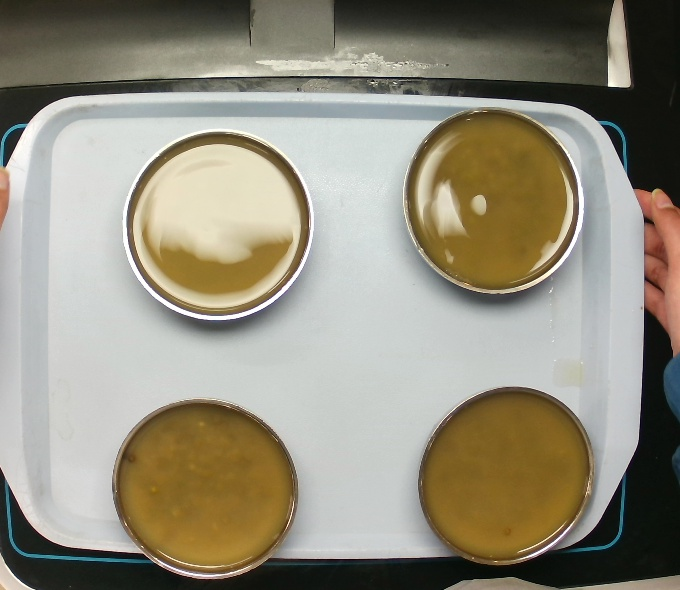wcq-LvDouTang: (118, 124, 310, 323), (404, 105, 578, 291), (111, 399, 293, 573), (422, 387, 591, 562)
